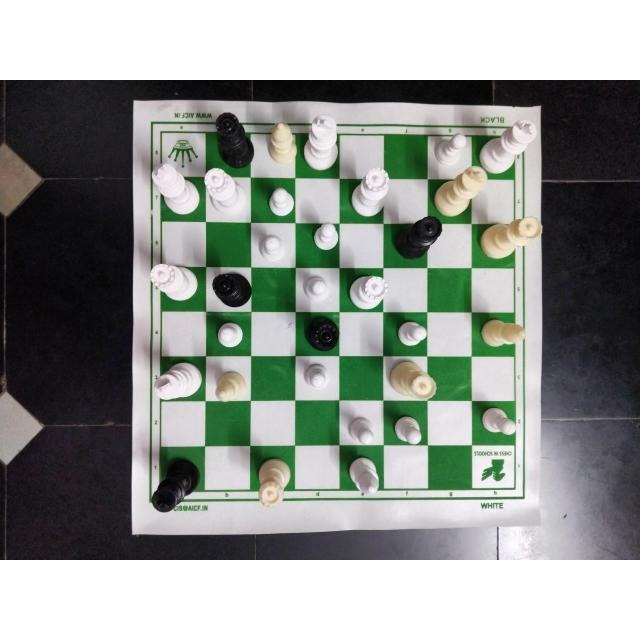black-king: (152, 456, 200, 512)
black-queen: (213, 110, 254, 166), (396, 215, 444, 260), (208, 272, 251, 308), (303, 316, 340, 352)
white-bishop: (479, 318, 527, 348), (347, 455, 383, 494), (268, 119, 297, 165), (216, 369, 246, 404)
white-king: (477, 118, 537, 175), (433, 167, 487, 218), (149, 163, 199, 215), (302, 113, 338, 173), (151, 362, 206, 401)
white-pawn: (480, 404, 518, 440), (392, 412, 426, 446), (433, 131, 466, 165), (265, 185, 295, 218), (348, 413, 376, 447), (257, 233, 287, 263), (396, 320, 428, 348), (214, 319, 243, 349), (301, 362, 330, 392), (312, 221, 339, 253), (302, 274, 330, 304)
white-queen: (481, 215, 543, 261), (201, 167, 248, 218), (149, 262, 199, 303), (388, 359, 437, 400), (352, 166, 388, 217), (257, 456, 291, 508), (347, 274, 388, 310)
